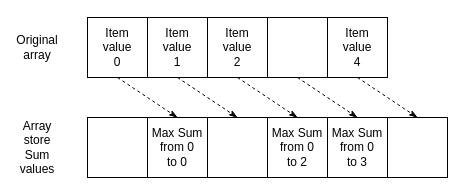
Some shapes in this 465 by 195 pixel diagram are drawn without their labels. Here are the shapes that lost their labels. From the top down, the centre of each, then its label:
point (297, 47): Item value 3
point (237, 147): Max Sum from 0 to 1
point (417, 147): Max Sum from 0 to 4
